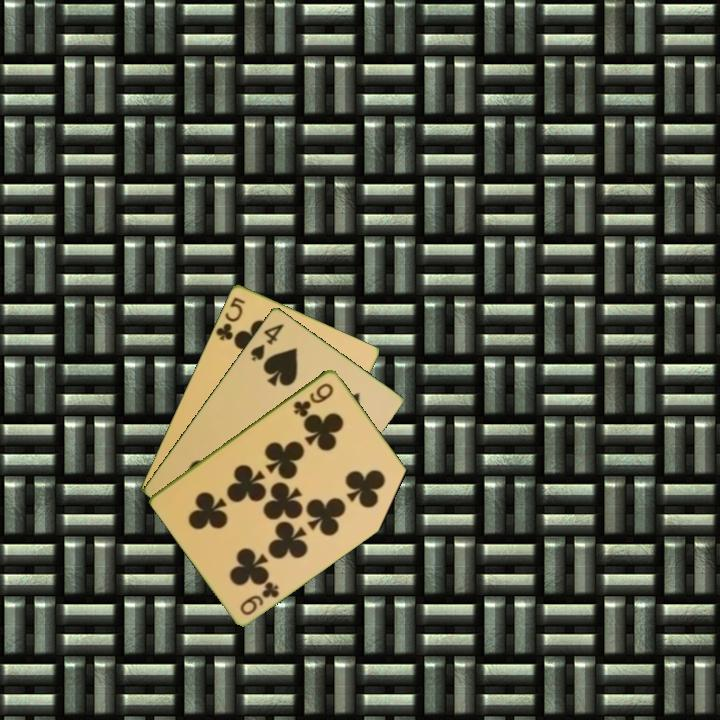4s: (247, 320, 287, 364)
5c: (212, 293, 248, 343)
9c: (236, 577, 282, 618), (290, 379, 337, 419)
